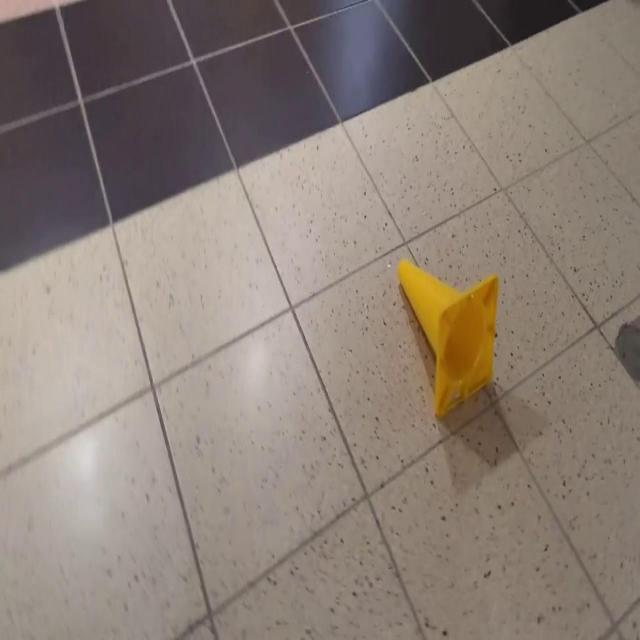frc_cone: (396, 255, 498, 421)
